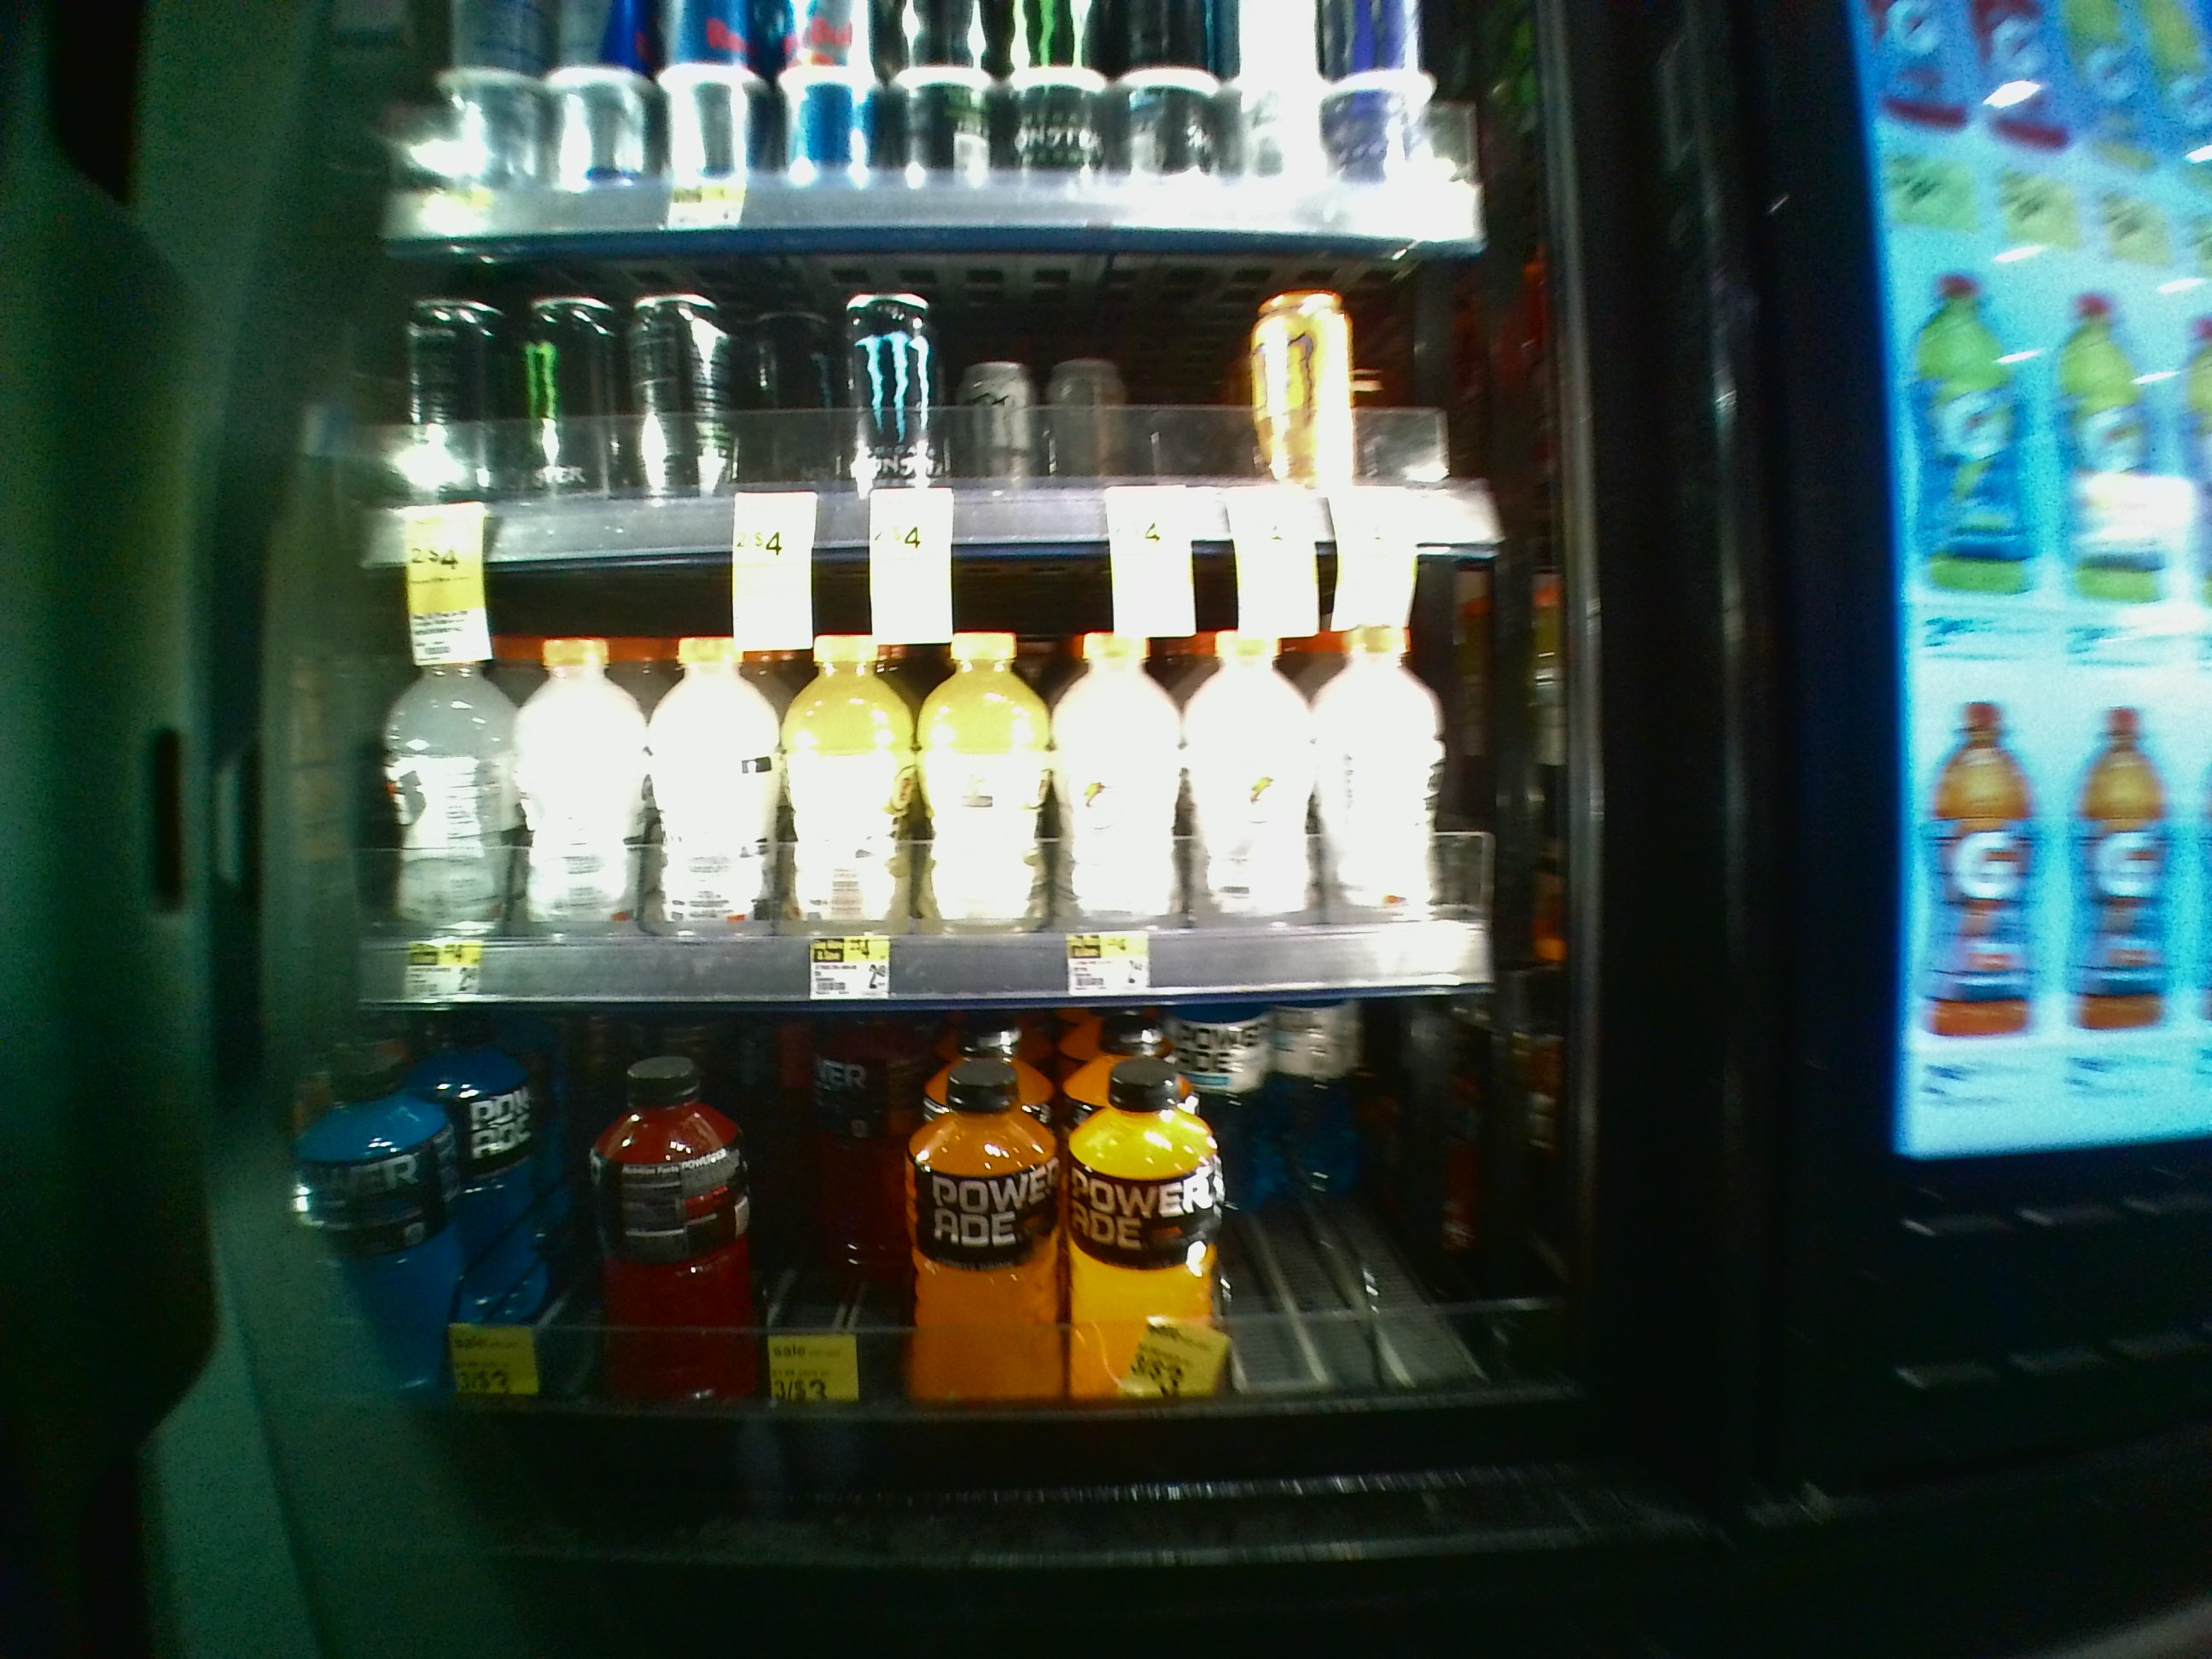shelf: (307, 1000, 1625, 1432), (336, 563, 1601, 992)
